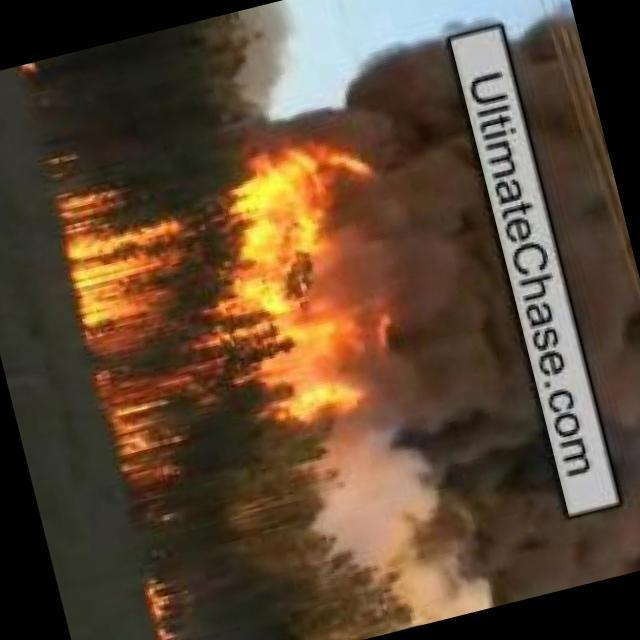Fire: (52, 128, 428, 482), (144, 573, 194, 640)
